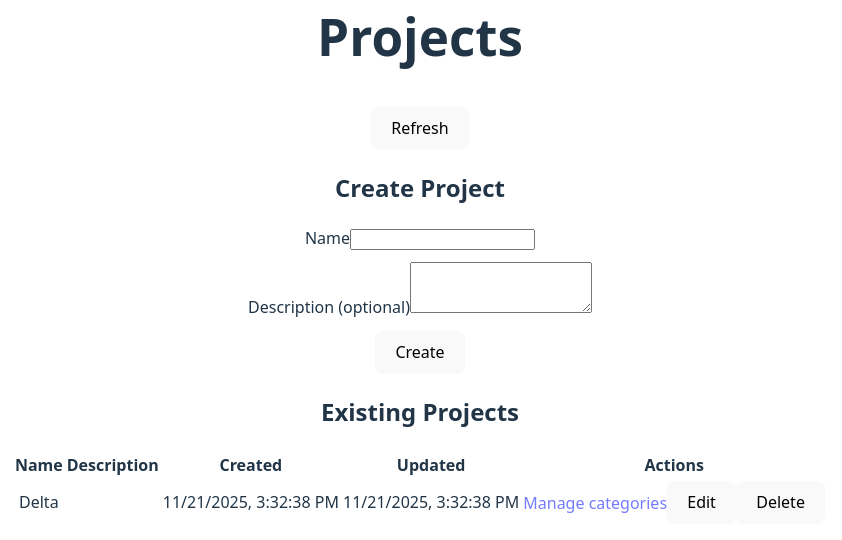
it: Projects page › deletes a project
Click the button "Delete" at (781, 502), box [736,480,825,524]
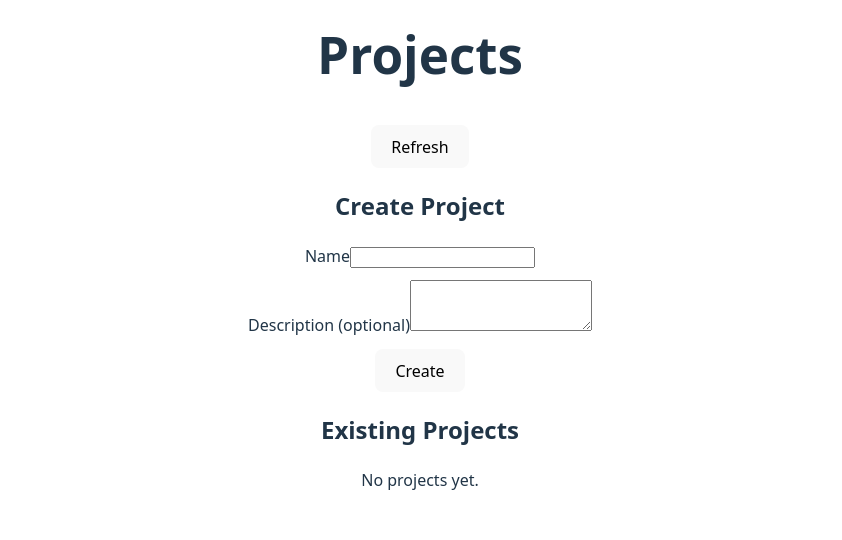
Check: the text "No projects yet." is shown, box [361,469,479,491]
